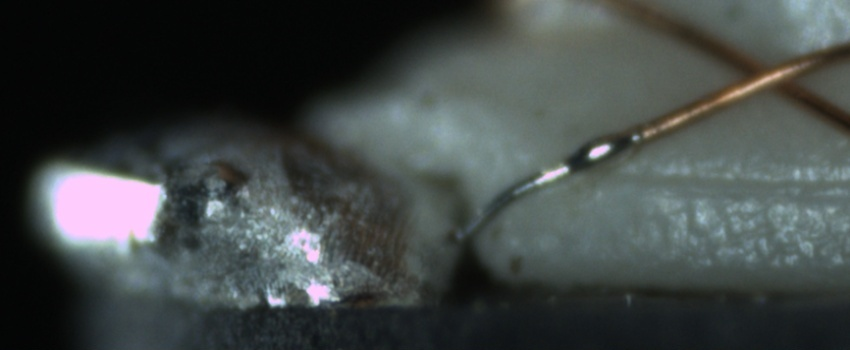CL: (713, 41, 820, 106)
DL: (577, 153, 850, 217)
TS: (456, 124, 643, 244)
TTCW: (457, 108, 683, 243)
